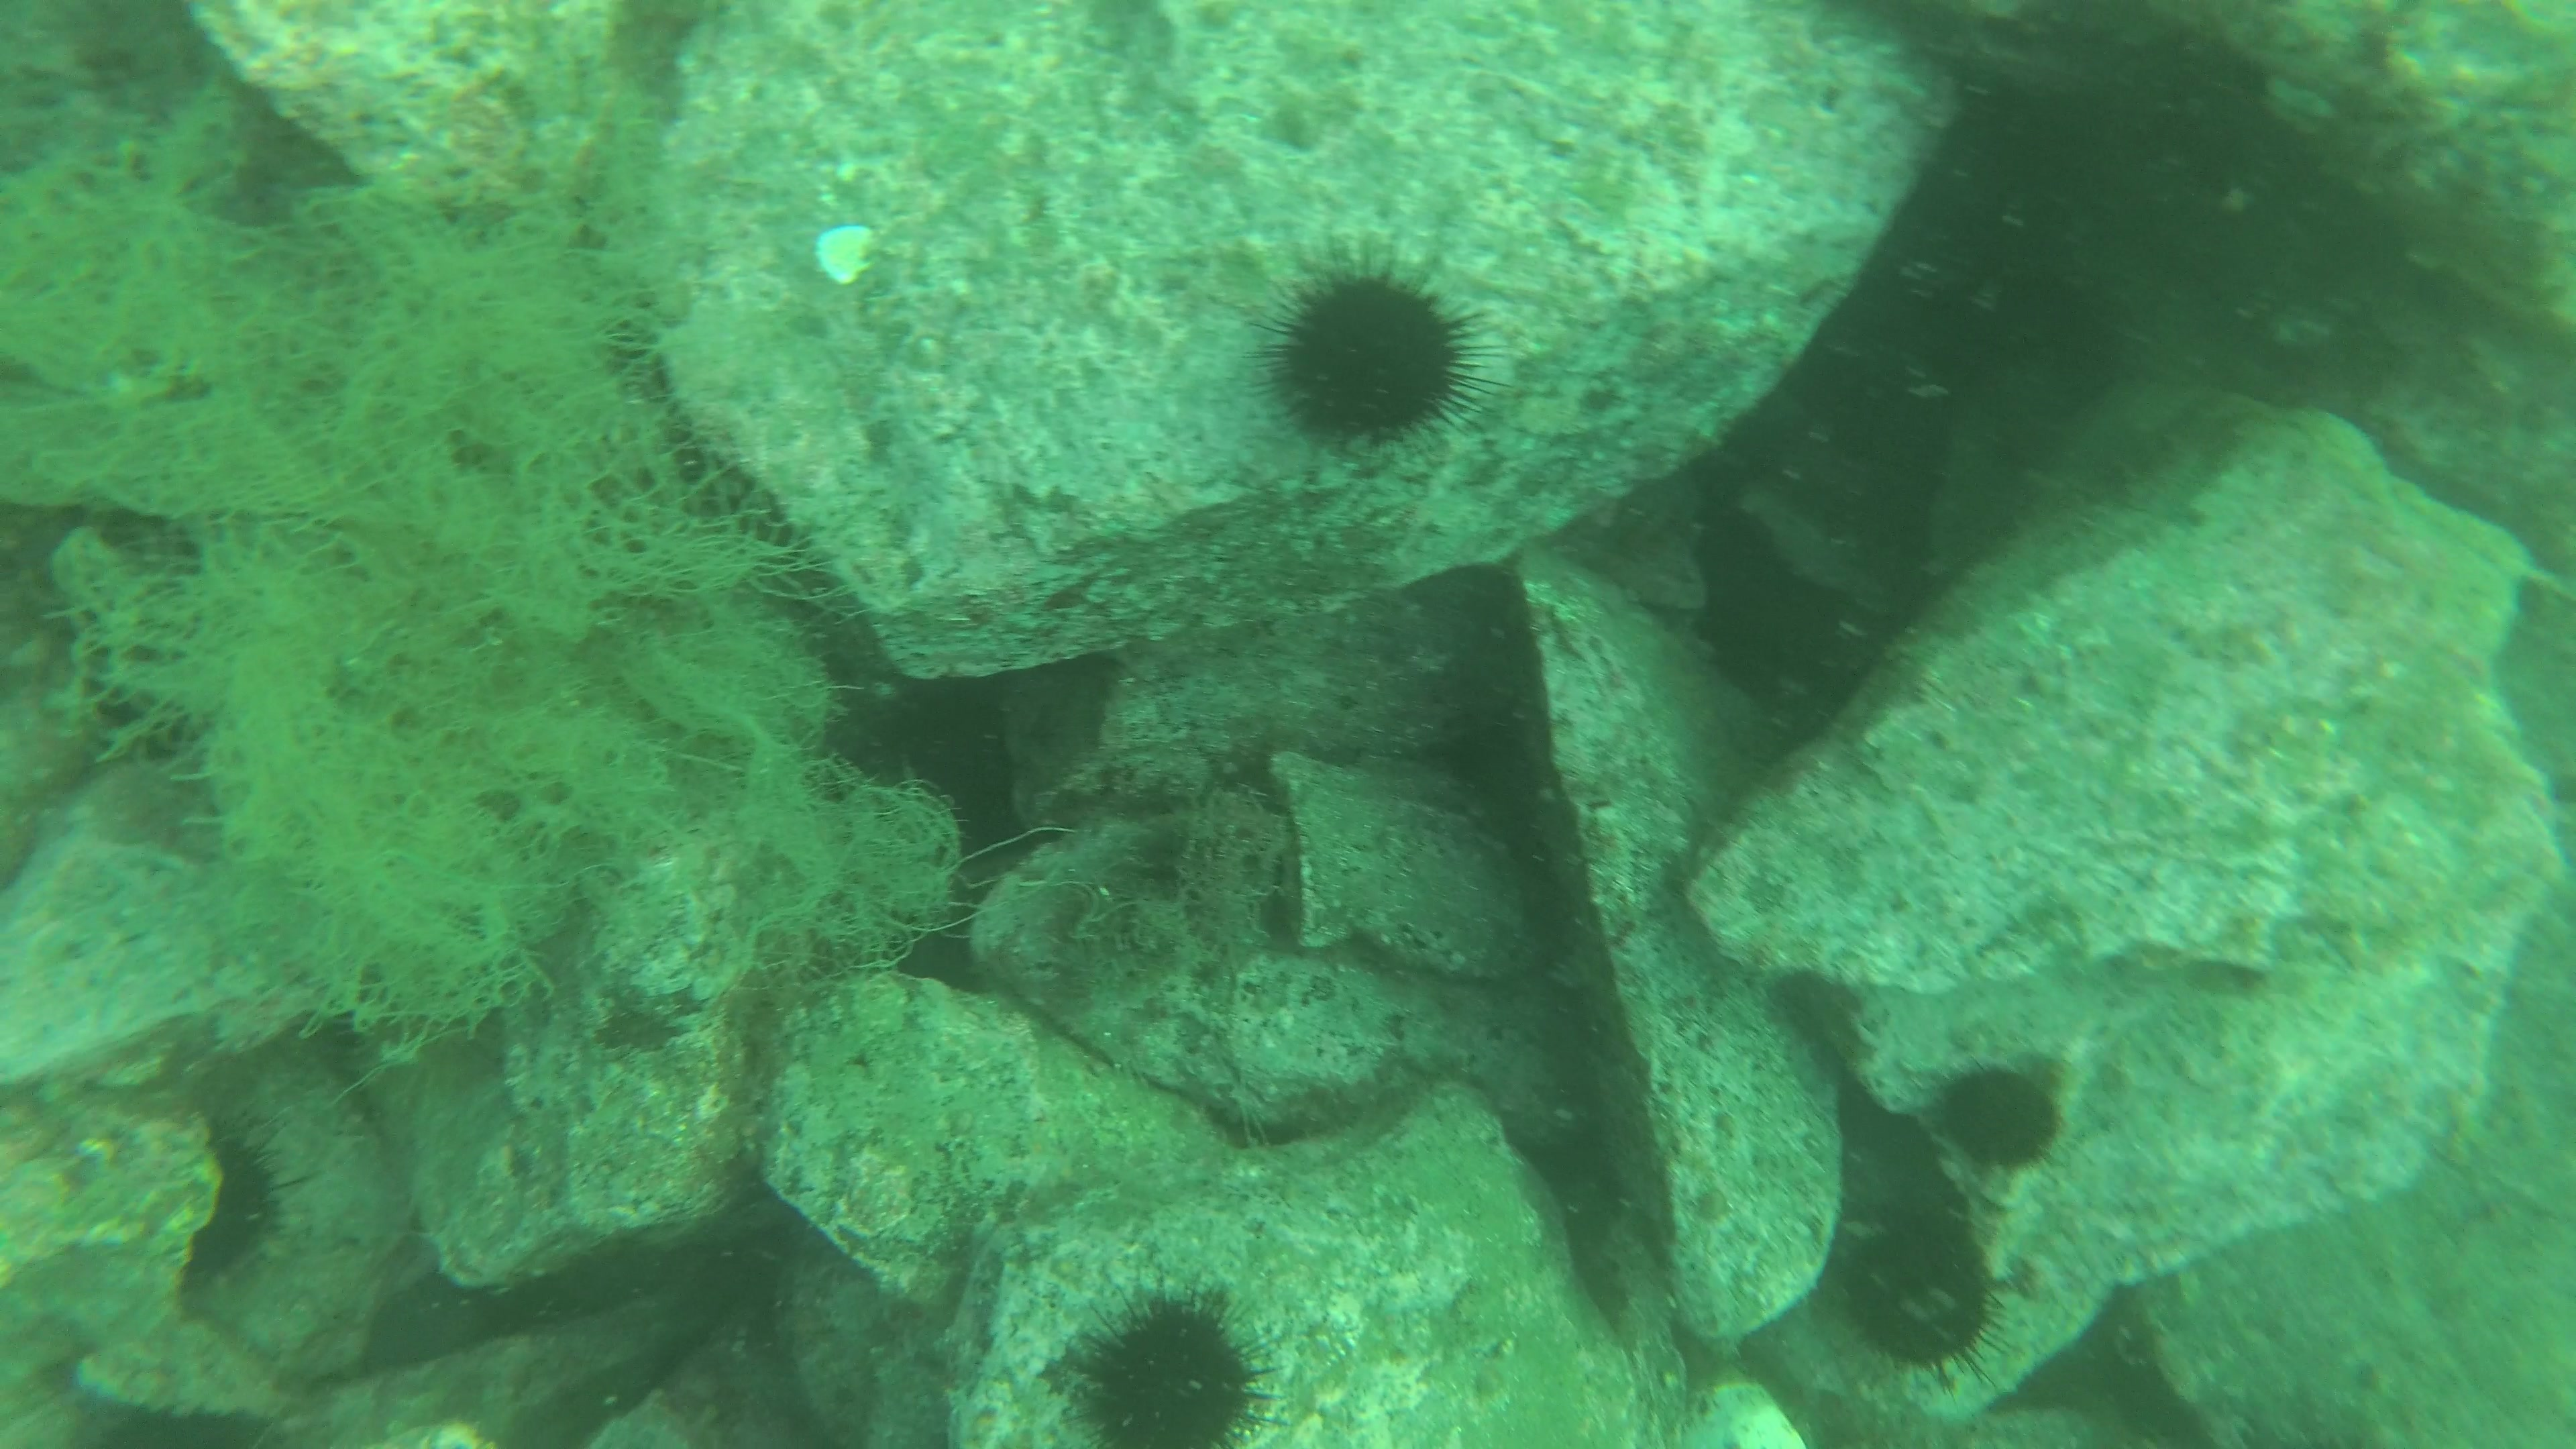echinus: (1276, 264, 1468, 444), (1072, 1302, 1260, 1449), (1851, 1223, 1994, 1366), (1948, 1065, 2063, 1162)
